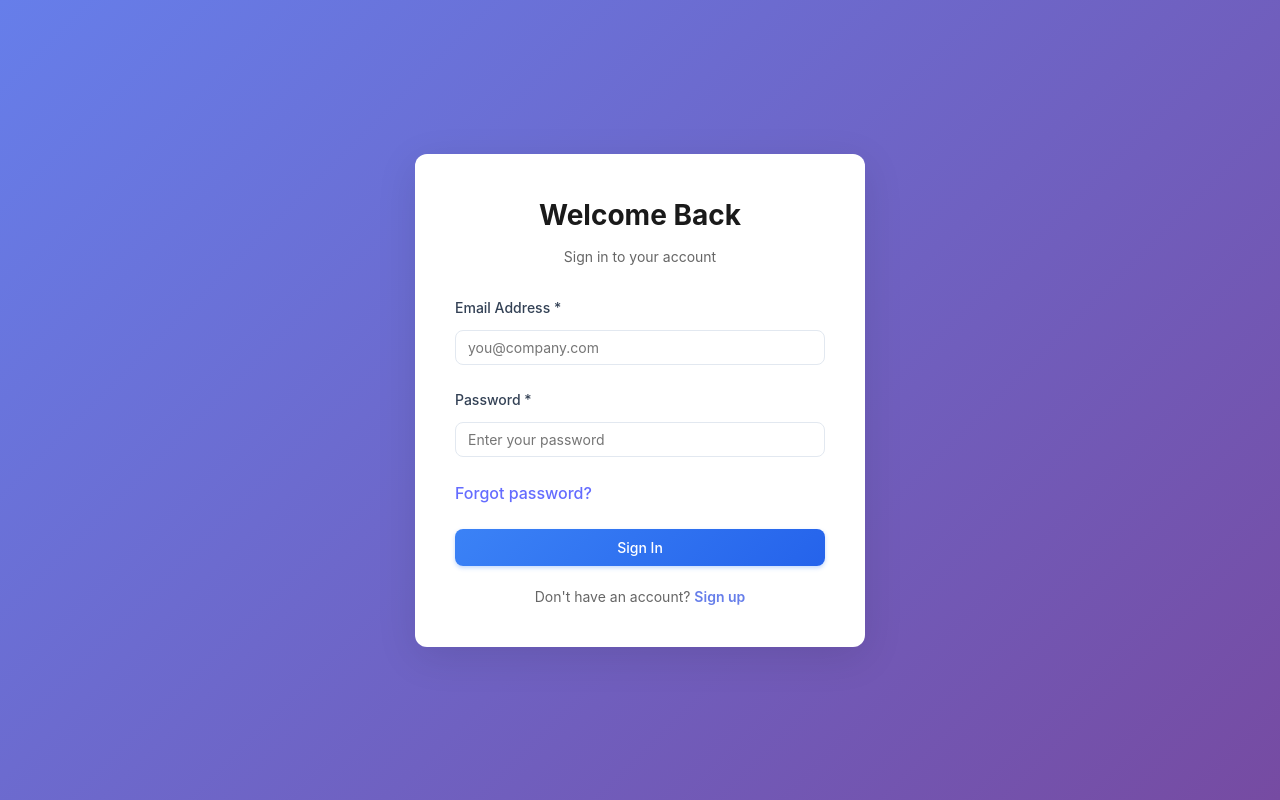
Test case: Login Component › should disable submit button while loading
The image size is (1280, 800).
Type "test@example.com" into the field labelled "Email Address *" at (640, 347), box [455,330,825,364]
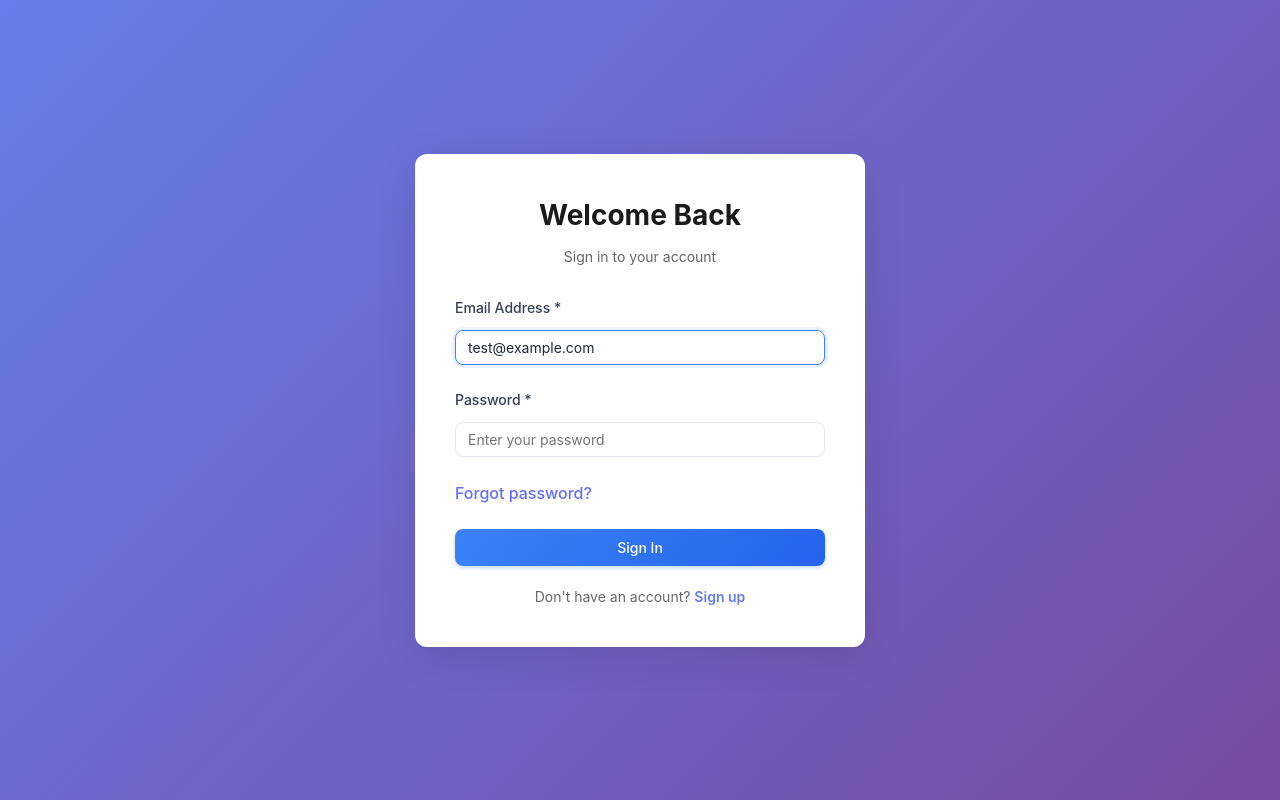
Type "password123" into the password field labelled "Password *" at (640, 439), box [455,422,825,456]
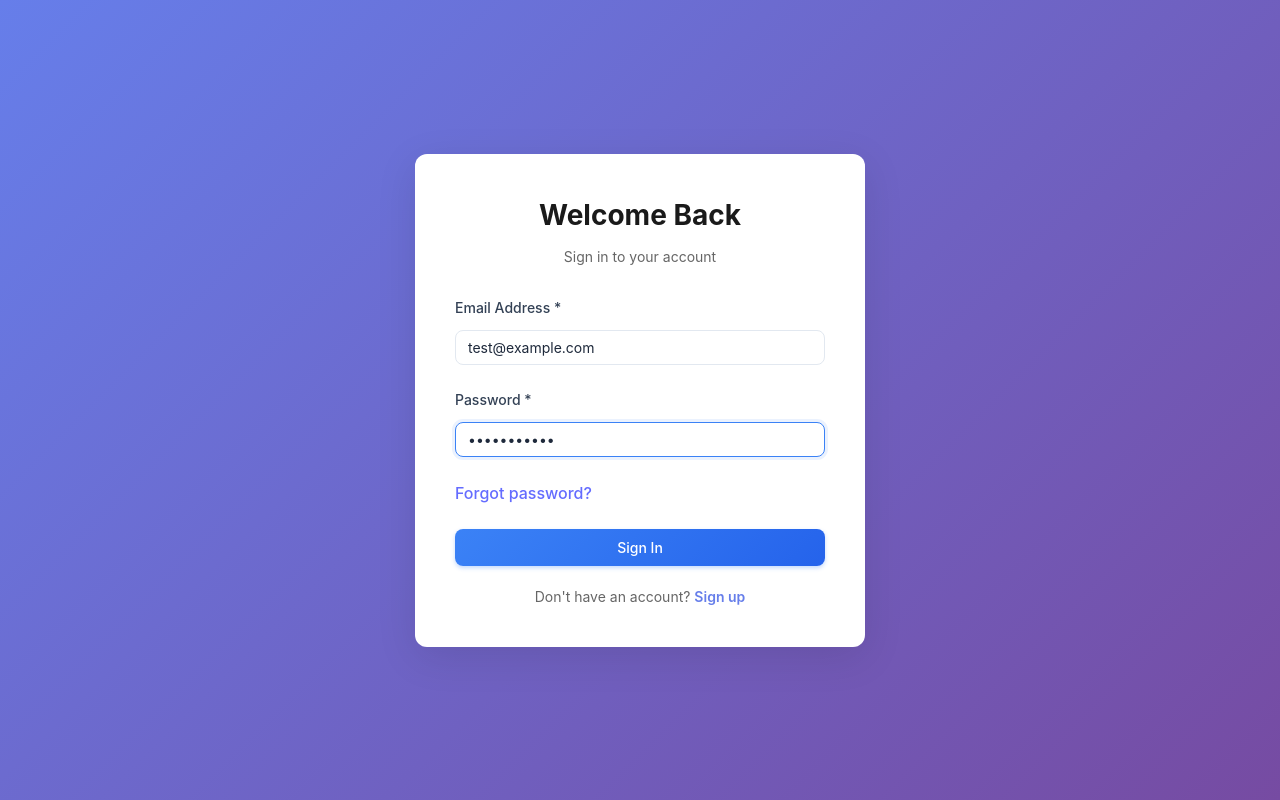
Click the button "Sign In" at (640, 547), box [455,528,825,566]
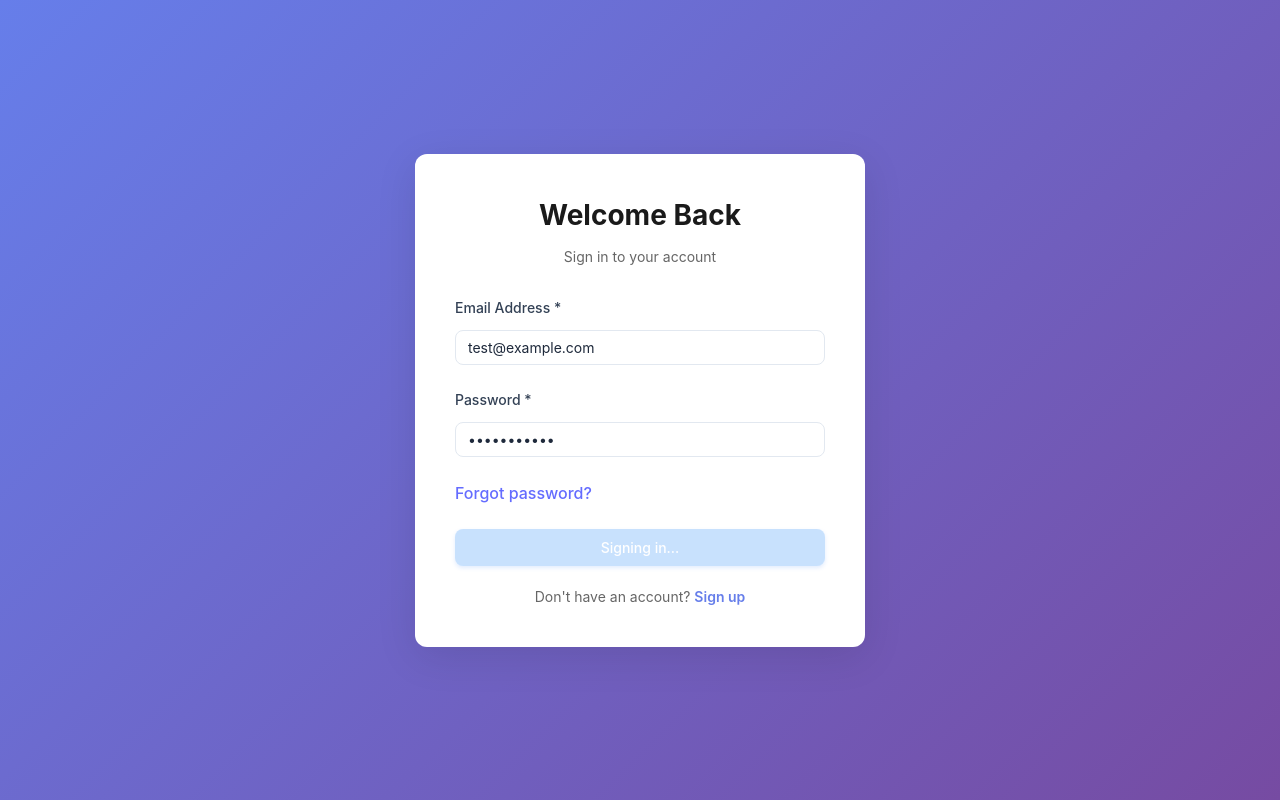
Now the button "Signing in..." is disabled, box [455,528,825,566]
